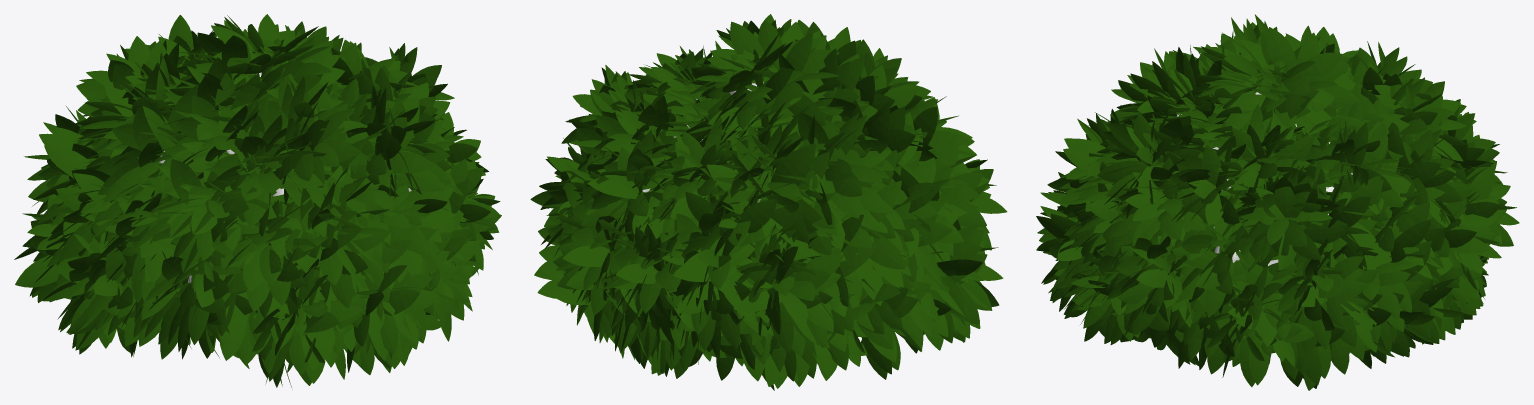
File: พุ่มไม้fbx.fbx
3 renders of one model, left to right at view 1: azimuth 30°, elevation 25°; view 2: azimuth 150°, elevation 25°; view 3: azimuth 270°, elevation 25°, orthographic. The views are drawn at different scales.
Visible parts, largest first — view 1: ทรงกลม|Plane.001|Dupli|1525, ทรงกลม|Plane.001|Dupli|1554, ทรงกลม|Plane.001|Dupli|1372, ทรงกลม|Plane.001|Dupli|1454, ทรงกลม|Plane.001|Dupli|552, ทรงกลม|Plane.001|Dupli|565, ทรงกลม|Plane.001|Dupli|634, ทรงกลม|Plane.001|Dupli|620, ทรงกลม|Plane.001|Dupli|1367, ทรงกลม|Plane.001|Dupli|1414, ทรงกลม|Plane.001|Dupli|1380, ทรงกลม|Plane.001|Dupli|1388 (+84 smaller); view 2: ทรงกลม|Plane.001|Dupli|1357, ทรงกลม|Plane.001|Dupli|1439, ทรงกลม|Plane.001|Dupli|1410, ทรงกลม|Plane.001|Dupli|1727, ทรงกลม|Plane.001|Dupli|1246, ทรงกลม|Plane.001|Dupli|1244, ทรงกลม|Plane.001|Dupli|1725, ทรงกลม|Plane.001|Dupli|1723, ทรงกลม|Plane.001|Dupli|1296, ทรงกลม|Plane.001|Dupli|1321, ทรงกลม|Plane.001|Dupli|1434, ทรงกลม|Plane.001|Dupli|1436 (+86 smaller); view 3: ทรงกลม|Plane.001|Dupli|1588, ทรงกลม|Plane.001|Dupli|1212, ทรงกลม|Plane.001|Dupli|319, ทรงกลม|Plane.001|Dupli|1587, ทรงกลม|Plane.001|Dupli|1576, ทรงกลม|Plane.001|Dupli|1672, ทรงกลม|Plane.001|Dupli|1715, ทรงกลม|Plane.001|Dupli|169, ทรงกลม|Plane.001|Dupli|1713, ทรงกลม|Plane.001|Dupli|1230, ทรงกลม|Plane.001|Dupli|1200, ทรงกลม|Plane.001|Dupli|1586 (+79 smaller).
Boxes of the visible parts, left/top/right/bottom form: ทรงกลม|Plane.001|Dupli|1525: left=98, top=109, right=184, bottom=194; ทรงกลม|Plane.001|Dupli|1554: left=44, top=145, right=90, bottom=234; ทรงกลม|Plane.001|Dupli|1372: left=330, top=227, right=390, bottom=308; ทรงกลม|Plane.001|Dupli|1454: left=66, top=243, right=130, bottom=352; ทรงกลม|Plane.001|Dupli|552: left=149, top=159, right=201, bottom=243; ทรงกลม|Plane.001|Dupli|565: left=112, top=84, right=198, bottom=189; ทรงกลม|Plane.001|Dupli|634: left=175, top=73, right=260, bottom=142; ทรงกลม|Plane.001|Dupli|620: left=15, top=194, right=59, bottom=287; ทรงกลม|Plane.001|Dupli|1367: left=380, top=274, right=432, bottom=354; ทรงกลม|Plane.001|Dupli|1414: left=103, top=157, right=173, bottom=202; ทรงกลม|Plane.001|Dupli|1380: left=288, top=300, right=362, bottom=375; ทรงกลม|Plane.001|Dupli|1388: left=239, top=174, right=328, bottom=227; ทรงกลม|Plane.001|Dupli|1357: left=685, top=192, right=776, bottom=259; ทรงกลม|Plane.001|Dupli|1439: left=860, top=180, right=905, bottom=269; ทรงกลม|Plane.001|Dupli|1410: left=933, top=135, right=986, bottom=227; ทรงกลม|Plane.001|Dupli|1727: left=766, top=33, right=825, bottom=125; ทรงกลม|Plane.001|Dupli|1246: left=771, top=147, right=809, bottom=242; ทรงกลม|Plane.001|Dupli|1244: left=771, top=269, right=830, bottom=353; ทรงกลม|Plane.001|Dupli|1725: left=758, top=20, right=838, bottom=74; ทรงกลม|Plane.001|Dupli|1723: left=715, top=21, right=820, bottom=98; ทรงกลม|Plane.001|Dupli|1296: left=563, top=245, right=637, bottom=313; ทรงกลม|Plane.001|Dupli|1321: left=706, top=155, right=776, bottom=254; ทรงกลม|Plane.001|Dupli|1434: left=832, top=115, right=867, bottom=196; ทรงกลม|Plane.001|Dupli|1436: left=830, top=149, right=891, bottom=218; ทรงกลม|Plane.001|Dupli|1588: left=1172, top=219, right=1276, bottom=317; ทรงกลม|Plane.001|Dupli|1212: left=1230, top=177, right=1347, bottom=262; ทรงกลม|Plane.001|Dupli|319: left=1097, top=112, right=1202, bottom=182; ทรงกลม|Plane.001|Dupli|1587: left=1206, top=301, right=1314, bottom=385; ทรงกลม|Plane.001|Dupli|1576: left=1319, top=188, right=1370, bottom=270; ทรงกลม|Plane.001|Dupli|1672: left=1233, top=128, right=1314, bottom=163; ทรงกลม|Plane.001|Dupli|1715: left=1246, top=32, right=1360, bottom=107; ทรงกลม|Plane.001|Dupli|169: left=1245, top=177, right=1320, bottom=268; ทรงกลม|Plane.001|Dupli|1713: left=1261, top=30, right=1342, bottom=106; ทรงกลม|Plane.001|Dupli|1230: left=1469, top=165, right=1513, bottom=246; ทรงกลม|Plane.001|Dupli|1200: left=1240, top=211, right=1332, bottom=244; ทรงกลม|Plane.001|Dupli|1586: left=1195, top=283, right=1302, bottom=386.
Size of the model in its own units: 273 by 177 by 272.
